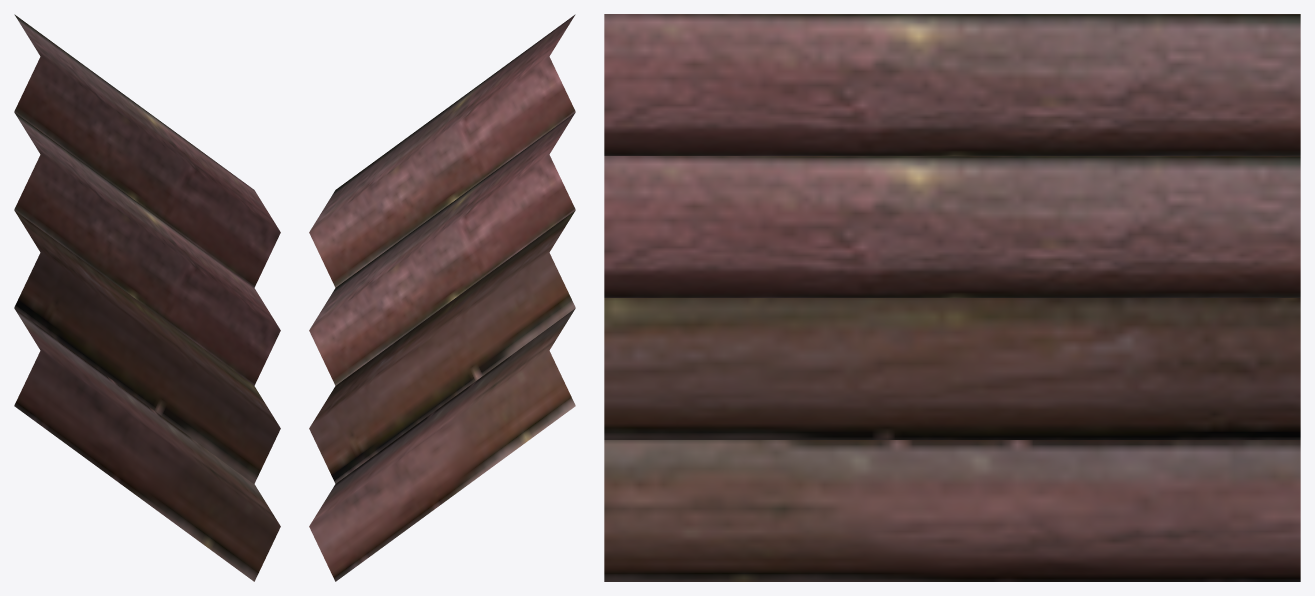
Rendered from WallFull019.fbx.
The picture shows the model from 3 angles, left to right: view 1: azimuth 30°, elevation 25°; view 2: azimuth 150°, elevation 25°; view 3: azimuth 270°, elevation 25°; orthographic projection. The views are drawn at different scales.
Visible parts, largest first — view 1: WallFull019; view 2: WallFull019; view 3: WallFull019.
Part boxes in pixels (x1,y1,x2,y2): WallFull019: (14, 14, 280, 581); WallFull019: (309, 14, 575, 581); WallFull019: (604, 14, 1300, 581).
Size of the model in its own units: 16.93 by 267 by 240.
